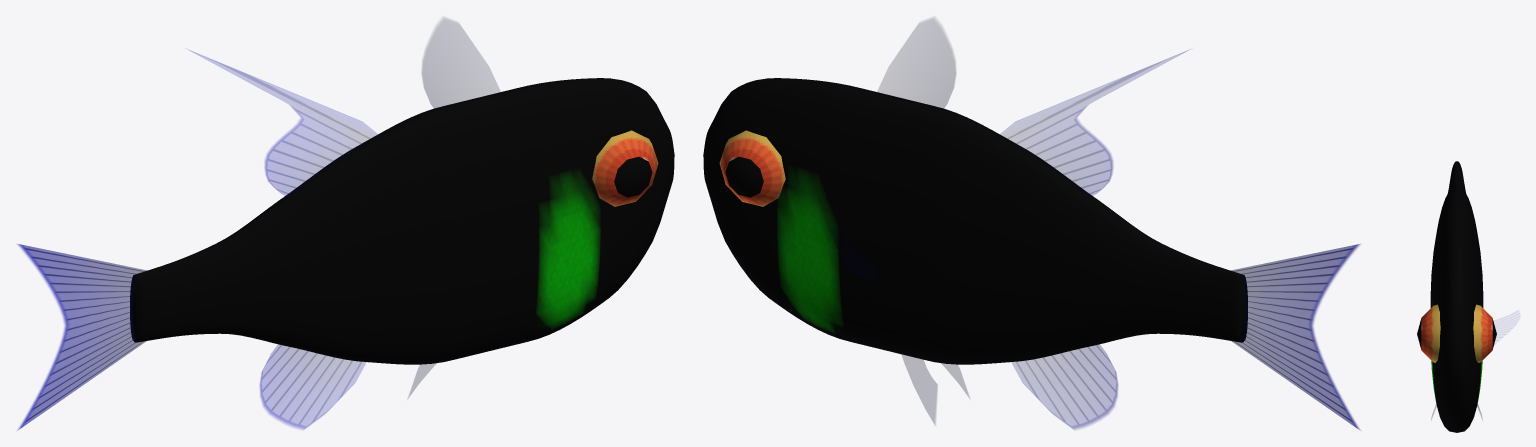
Rendered from cardinal.glb.
3 renders of one model, left to right at view 1: azimuth 30°, elevation 25°; view 2: azimuth 150°, elevation 25°; view 3: azimuth 270°, elevation 25°, orthographic. The views are drawn at different scales.
Visible parts, largest first — view 1: Body, FinCaudal, FinDorsal2, FinAnal, FinDorsal, EyeR; view 2: Body, FinCaudal, FinDorsal2, FinAnal, FinDorsal, EyeL, FinPelvicL; view 3: Body, EyeL, EyeR.
Boxes of the visible parts, x1,y1,x2,y2 form: Body: (130,78,674,364); FinCaudal: (17,244,147,430); FinDorsal2: (189,50,379,196); FinAnal: (259,344,366,429); FinDorsal: (422,18,500,109); EyeR: (592,130,658,206); Body: (703,78,1247,364); FinCaudal: (1230,244,1360,430); FinDorsal2: (998,50,1188,196); FinAnal: (1011,344,1118,429); FinDorsal: (877,18,955,109); EyeL: (719,130,785,206); FinPelvicL: (901,352,937,424); Body: (1430,161,1483,432); EyeL: (1473,304,1496,362); EyeR: (1417,304,1440,362).
Size of the model in its own units: 1 by 0.6228 by 0.2272.
Materials: 4 (3 with a texture image).
